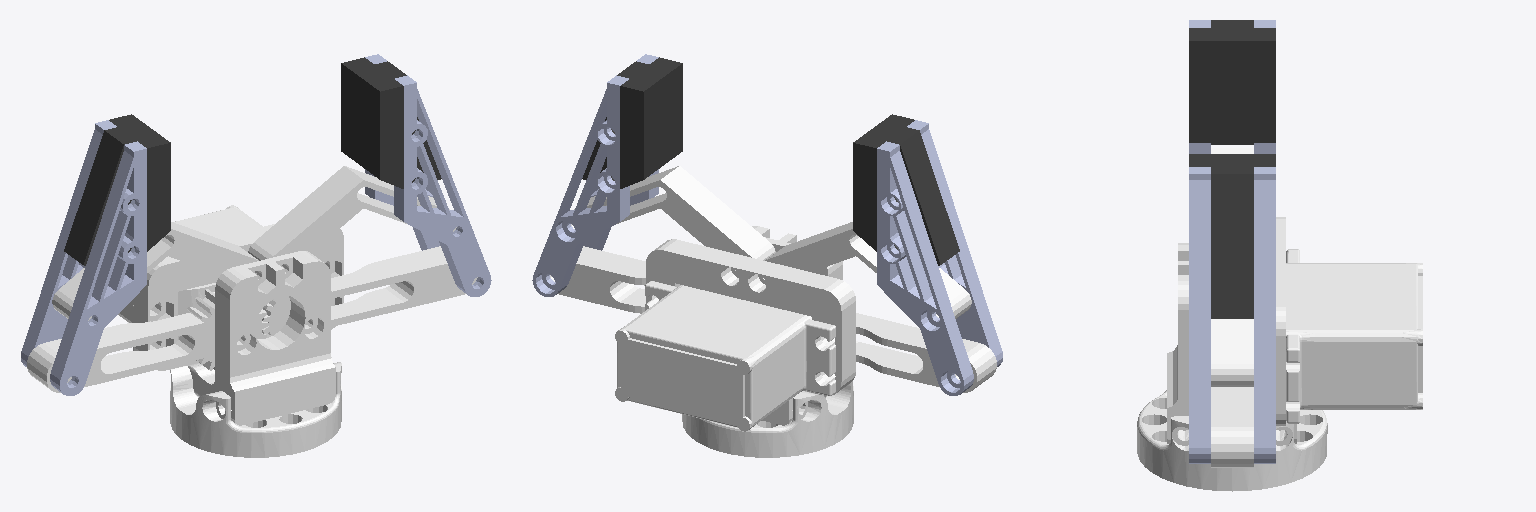
URDF robot description (gripper):
<?xml version="1.0" encoding="utf-8"?>
<!-- This URDF was automatically created by SolidWorks to URDF Exporter! Originally created by [author] ([email redacted]) 
     Commit Version: 1.6.0-4-g7f85cfe  Build Version: 1.6.7995.38578
     For more information, please see http://wiki.ros.org/sw_urdf_exporter -->
<robot
  name="gripper">
  <link
    name="mount_link">
    <inertial>
      <origin
        xyz="-8.7222301559667E-09 2.60285524007094E-09 0.00461166078124227"
        rpy="0 0 0" />
      <mass
        value="0.00800577106561985" />
      <inertia
        ixx="1.22566043551288E-06"
        ixy="5.24153200353572E-12"
        ixz="2.32613228187738E-13"
        iyy="1.59849746758112E-06"
        iyz="-2.46327240687223E-12"
        izz="2.6598091705915E-06" />
    </inertial>
    <visual>
      <origin
        xyz="0 0 0"
        rpy="0 0 0" />
      <geometry>
        <mesh
          filename="package://gripper/meshes/mount_link.STL" />
      </geometry>
      <material
        name="">
        <color
          rgba="1 1 1 1" />
      </material>
    </visual>
    <collision>
      <origin
        xyz="0 0 0"
        rpy="0 0 0" />
      <geometry>
        <mesh
          filename="package://gripper/meshes/mount_link.STL" />
      </geometry>
    </collision>
  </link>
  <link
    name="link_1_left">
    <inertial>
      <origin
        xyz="0.0201642304338692 1.38777878078145E-17 0.004236242137124"
        rpy="0 0 0" />
      <mass
        value="0.00469706452647219" />
      <inertia
        ixx="1.18042272673537E-07"
        ixy="2.49578673776553E-22"
        ixz="-6.12806042251421E-08"
        iyy="2.05310941947316E-06"
        iyz="-3.17001650257236E-24"
        izz="2.10931388717727E-06" />
    </inertial>
    <visual>
      <origin
        xyz="0 0 0"
        rpy="0 0 0" />
      <geometry>
        <mesh
          filename="package://gripper/meshes/link_1_left.STL" />
      </geometry>
      <material
        name="">
        <color
          rgba="1 1 1 1" />
      </material>
    </visual>
    <collision>
      <origin
        xyz="0 0 0"
        rpy="0 0 0" />
      <geometry>
        <mesh
          filename="package://gripper/meshes/link_1_left.STL" />
      </geometry>
    </collision>
  </link>
  <joint
    name="joint_1_left"
    type="revolute">
    <origin
      xyz="-0.01 -0.005 0.02925"
      rpy="1.5707963267949 0 3.14159265358979" />
    <parent
      link="mount_link" />
    <child
      link="link_1_left" />
    <axis
      xyz="0 0 -1" />
    <limit
      lower="-3.14"
      upper="3.14"
      effort="1"
      velocity="1" />
    <dynamics
      damping="1"
      friction="1" />
  </joint>
  <link
    name="link_2_left">
    <inertial>
      <origin
        xyz="-0.0118635948259238 0.0260158233367256 -9.35122738154528E-05"
        rpy="0 0 0" />
      <mass
        value="0.00437161591060403" />
      <inertia
        ixx="1.26241086249325E-06"
        ixy="4.50233056113258E-07"
        ixz="1.03279945421963E-09"
        iyy="2.54614187804496E-07"
        iyz="-1.94371719517842E-09"
        izz="1.49861390642806E-06" />
    </inertial>
    <visual>
      <origin
        xyz="0 0 0"
        rpy="0 0 0" />
      <geometry>
        <mesh
          filename="package://gripper/meshes/link_2_left.STL" />
      </geometry>
      <material
        name="">
        <color
          rgba="0.792156862745098 0.819607843137255 0.933333333333333 1" />
      </material>
    </visual>
    <collision>
      <origin
        xyz="0 0 0"
        rpy="0 0 0" />
      <geometry>
        <mesh
          filename="package://gripper/meshes/link_2_left.STL" />
      </geometry>
    </collision>
  </link>
  <joint
    name="joint_2_left"
    type="fixed">
    <origin
      xyz="0.05 0 0.005"
      rpy="0 0 0" />
    <parent
      link="link_1_left" />
    <child
      link="link_2_left" />
    <axis
      xyz="0 0 1" />
    <limit
      lower="-3.14"
      upper="3.14"
      effort="1"
      velocity="1" />
    <dynamics
      damping="1"
      friction="1" />
  </joint>
  <link
    name="link_3_left">
    <inertial>
      <origin
        xyz="-0.00764323689249071 6.04234445658937E-19 -0.0158438878575795"
        rpy="0 0 0" />
      <mass
        value="0.00676809927823876" />
      <inertia
        ixx="6.50800323977911E-07"
        ixy="-2.77394163774419E-23"
        ixz="-1.32178480768053E-07"
        iyy="7.0118965410435E-07"
        iyz="-3.25777176135168E-23"
        izz="3.53298937602956E-07" />
    </inertial>
    <visual>
      <origin
        xyz="0 0 0"
        rpy="0 0 0" />
      <geometry>
        <mesh
          filename="package://gripper/meshes/link_3_left.STL" />
      </geometry>
      <material
        name="">
        <color
          rgba="0.298039215686275 0.298039215686275 0.298039215686275 1" />
      </material>
    </visual>
    <collision>
      <origin
        xyz="0 0 0"
        rpy="0 0 0" />
      <geometry>
        <mesh
          filename="package://gripper/meshes/link_3_left.STL" />
      </geometry>
    </collision>
  </link>
  <joint
    name="joint_3_left"
    type="fixed">
    <origin
      xyz="-0.029 0.061 0"
      rpy="1.5707963267949 0 3.14159265358979" />
    <parent
      link="link_2_left" />
    <child
      link="link_3_left" />
    <axis
      xyz="0 0 0" />
  </joint>
  <link
    name="link_support_left">
    <inertial>
      <origin
        xyz="-0.0230443185065054 -1.93720013088862E-18 -0.00617590354942425"
        rpy="0 0 0" />
      <mass
        value="0.00343879121636352" />
      <inertia
        ixx="3.3013163060583E-07"
        ixy="-4.94983715673103E-23"
        ixz="-3.63783392132806E-07"
        iyy="9.95820730062242E-07"
        iyz="1.94039739044588E-23"
        izz="7.23002286395804E-07" />
    </inertial>
    <visual>
      <origin
        xyz="0 0 0"
        rpy="0 0 0" />
      <geometry>
        <mesh
          filename="package://gripper/meshes/link_support_left.STL" />
      </geometry>
      <material
        name="">
        <color
          rgba="1 1 1 1" />
      </material>
    </visual>
    <collision>
      <origin
        xyz="0 0 0"
        rpy="0 0 0" />
      <geometry>
        <mesh
          filename="package://gripper/meshes/link_support_left.STL" />
      </geometry>
    </collision>
  </link>
  <joint
    name="joint_support_left"
    type="continuous">
    <origin
      xyz="-0.004 0 0.04525"
      rpy="0 0.523598775598301 0" />
    <parent
      link="mount_link" />
    <child
      link="link_support_left" />
    <axis
      xyz="0 1 0" />
    <limit
      lower="-3.14"
      upper="3.14"
      effort="1"
      velocity="1" />
    <dynamics
      damping="1"
      friction="1" />
    <mimic
      joint="joint_1_left"
      multiplier="1"
      offset="0" />
  </joint>
  <link
    name="link_1_right">
    <inertial>
      <origin
        xyz="0.0216856425487956 0 0.000708029008234877"
        rpy="0 0 0" />
      <mass
        value="0.00477903641271765" />
      <inertia
        ixx="1.1732564402647E-07"
        ixy="2.71135989269119E-24"
        ixz="6.51369632433988E-08"
        iyy="2.08980923685234E-06"
        iyz="-1.43172177828471E-23"
        izz="2.14169254123333E-06" />
    </inertial>
    <visual>
      <origin
        xyz="0 0 0"
        rpy="0 0 0" />
      <geometry>
        <mesh
          filename="package://gripper/meshes/link_1_right.STL" />
      </geometry>
      <material
        name="">
        <color
          rgba="1 1 1 1" />
      </material>
    </visual>
    <collision>
      <origin
        xyz="0 0 0"
        rpy="0 0 0" />
      <geometry>
        <mesh
          filename="package://gripper/meshes/link_1_right.STL" />
      </geometry>
    </collision>
  </link>
  <joint
    name="joint_1_right"
    type="revolute">
    <origin
      xyz="0.01 0 0.02925"
      rpy="1.5707963267949 0 0" />
    <parent
      link="mount_link" />
    <child
      link="link_1_right" />
    <axis
      xyz="0 0 1" />
    <limit
      lower="-3.14"
      upper="3.14"
      effort="1"
      velocity="1" />
    <dynamics
      damping="1"
      friction="1" />
    <mimic
      joint="joint_1_left"
      multiplier="1"
      offset="0" />
  </joint>
  <link
    name="link_2_right">
    <inertial>
      <origin
        xyz="-0.0118635948259238 0.0260158233367256 9.35122738154512E-05"
        rpy="0 0 0" />
      <mass
        value="0.00437161591060403" />
      <inertia
        ixx="1.26241086249325E-06"
        ixy="4.50233056113258E-07"
        ixz="-1.03279945421962E-09"
        iyy="2.54614187804496E-07"
        iyz="1.94371719517839E-09"
        izz="1.49861390642806E-06" />
    </inertial>
    <visual>
      <origin
        xyz="0 0 0"
        rpy="0 0 0" />
      <geometry>
        <mesh
          filename="package://gripper/meshes/link_2_right.STL" />
      </geometry>
      <material
        name="">
        <color
          rgba="0.792156862745098 0.819607843137255 0.933333333333333 1" />
      </material>
    </visual>
    <collision>
      <origin
        xyz="0 0 0"
        rpy="0 0 0" />
      <geometry>
        <mesh
          filename="package://gripper/meshes/link_2_right.STL" />
      </geometry>
    </collision>
  </link>
  <joint
    name="joint_2_right"
    type="revolute">
    <origin
      xyz="0.05 0 0"
      rpy="0 0 0" />
    <parent
      link="link_1_right" />
    <child
      link="link_2_right" />
    <axis
      xyz="0 0 -1" />
    <limit
      lower="-3.14"
      upper="3.14"
      effort="1"
      velocity="1" />
    <dynamics
      damping="1"
      friction="1" />
    <mimic
      joint="joint_2_left"
      multiplier="1"
      offset="0" />
  </joint>
  <link
    name="link_3_right">
    <inertial>
      <origin
        xyz="0.00764323689249072 -7.07598477240564E-19 -0.0158438878575795"
        rpy="0 0 0" />
      <mass
        value="0.00676809927823876" />
      <inertia
        ixx="6.50800323977911E-07"
        ixy="-4.15403897999288E-23"
        ixz="1.32178480768053E-07"
        iyy="7.0118965410435E-07"
        iyz="-1.79812532016807E-23"
        izz="3.53298937602955E-07" />
    </inertial>
    <visual>
      <origin
        xyz="0 0 0"
        rpy="0 0 0" />
      <geometry>
        <mesh
          filename="package://gripper/meshes/link_3_right.STL" />
      </geometry>
      <material
        name="">
        <color
          rgba="0.298039215686275 0.298039215686275 0.298039215686275 1" />
      </material>
    </visual>
    <collision>
      <origin
        xyz="0 0 0"
        rpy="0 0 0" />
      <geometry>
        <mesh
          filename="package://gripper/meshes/link_3_right.STL" />
      </geometry>
    </collision>
  </link>
  <joint
    name="joint_3_right"
    type="fixed">
    <origin
      xyz="-0.029 0.061 0"
      rpy="-1.5707963267949 0 0" />
    <parent
      link="link_2_right" />
    <child
      link="link_3_right" />
    <axis
      xyz="0 0 0" />
  </joint>
  <link
    name="link_support_right">
    <inertial>
      <origin
        xyz="-0.0230443185065054 2.00458307231488E-18 -0.00617590354942422"
        rpy="0 0 0" />
      <mass
        value="0.00343879121636352" />
      <inertia
        ixx="3.3013163060583E-07"
        ixy="1.65818337633436E-23"
        ixz="-3.63783392132805E-07"
        iyy="9.9582073006224E-07"
        iyz="2.39537533359487E-23"
        izz="7.23002286395803E-07" />
    </inertial>
    <visual>
      <origin
        xyz="0 0 0"
        rpy="0 0 0" />
      <geometry>
        <mesh
          filename="package://gripper/meshes/link_support_right.STL" />
      </geometry>
      <material
        name="">
        <color
          rgba="1 1 1 1" />
      </material>
    </visual>
    <collision>
      <origin
        xyz="0 0 0"
        rpy="0 0 0" />
      <geometry>
        <mesh
          filename="package://gripper/meshes/link_support_right.STL" />
      </geometry>
    </collision>
  </link>
  <joint
    name="joint_support_right"
    type="continuous">
    <origin
      xyz="0.004 0 0.04525"
      rpy="0 0.5235987755983 -3.14159265358979" />
    <parent
      link="mount_link" />
    <child
      link="link_support_right" />
    <axis
      xyz="0 1 0" />
    <limit
      lower="-3.14"
      upper="3.14"
      effort="1"
      velocity="1" />
    <dynamics
      damping="1"
      friction="1" />
    <mimic
      joint="joint_1_right"
      multiplier="1"
      offset="0" />
  </joint>
</robot>

--- Facts derived from the render (not from the file) ---
The picture shows the robot from 3 angles, left to right: view 1: azimuth 30°, elevation 25°; view 2: azimuth 150°, elevation 25°; view 3: azimuth 270°, elevation 25°; orthographic projection.
Robot: gripper — 9 links, 8 joints (3 revolute, 2 continuous, 3 fixed); root link mount_link; default pose: every joint at zero.
Visible links, largest first — view 1: mount_link, link_2_left, link_2_right, link_1_left, link_3_right, link_1_right, link_3_left, link_support_right, link_support_left; view 2: mount_link, link_2_left, link_2_right, link_3_right, link_3_left, link_support_right, link_1_left, link_1_right, link_support_left; view 3: mount_link, link_2_right, link_3_left, link_3_right, link_1_right, link_support_right, link_2_left.
Link boxes in pixels (left/top/right/bottom): mount_link: left=118, top=205, right=343, bottom=457; link_2_left: left=21, top=120, right=146, bottom=395; link_2_right: left=365, top=54, right=491, bottom=296; link_1_left: left=27, top=289, right=268, bottom=392; link_3_right: left=341, top=57, right=441, bottom=188; link_1_right: left=262, top=246, right=477, bottom=337; link_3_left: left=64, top=114, right=170, bottom=265; link_support_right: left=248, top=166, right=456, bottom=266; link_support_left: left=52, top=222, right=258, bottom=320; mount_link: left=615, top=226, right=855, bottom=457; link_2_left: left=877, top=120, right=1002, bottom=395; link_2_right: left=532, top=54, right=658, bottom=296; link_3_right: left=582, top=57, right=682, bottom=188; link_3_left: left=853, top=114, right=959, bottom=265; link_support_right: left=571, top=166, right=775, bottom=260; link_1_left: left=856, top=313, right=996, bottom=392; link_1_right: left=550, top=246, right=645, bottom=313; link_support_left: left=765, top=222, right=971, bottom=318; mount_link: left=1137, top=217, right=1422, bottom=491; link_2_right: left=1189, top=167, right=1275, bottom=463; link_3_left: left=1189, top=20, right=1275, bottom=144; link_3_right: left=1189, top=154, right=1275, bottom=318; link_1_right: left=1211, top=387, right=1253, bottom=467; link_support_right: left=1211, top=319, right=1253, bottom=386; link_2_left: left=1189, top=20, right=1275, bottom=153.
Size in the robot's own frame: 0.1298 by 0.066 by 0.0903 metres.
9 mesh visuals loaded from 9 distinct referenced files (9 binary STL).